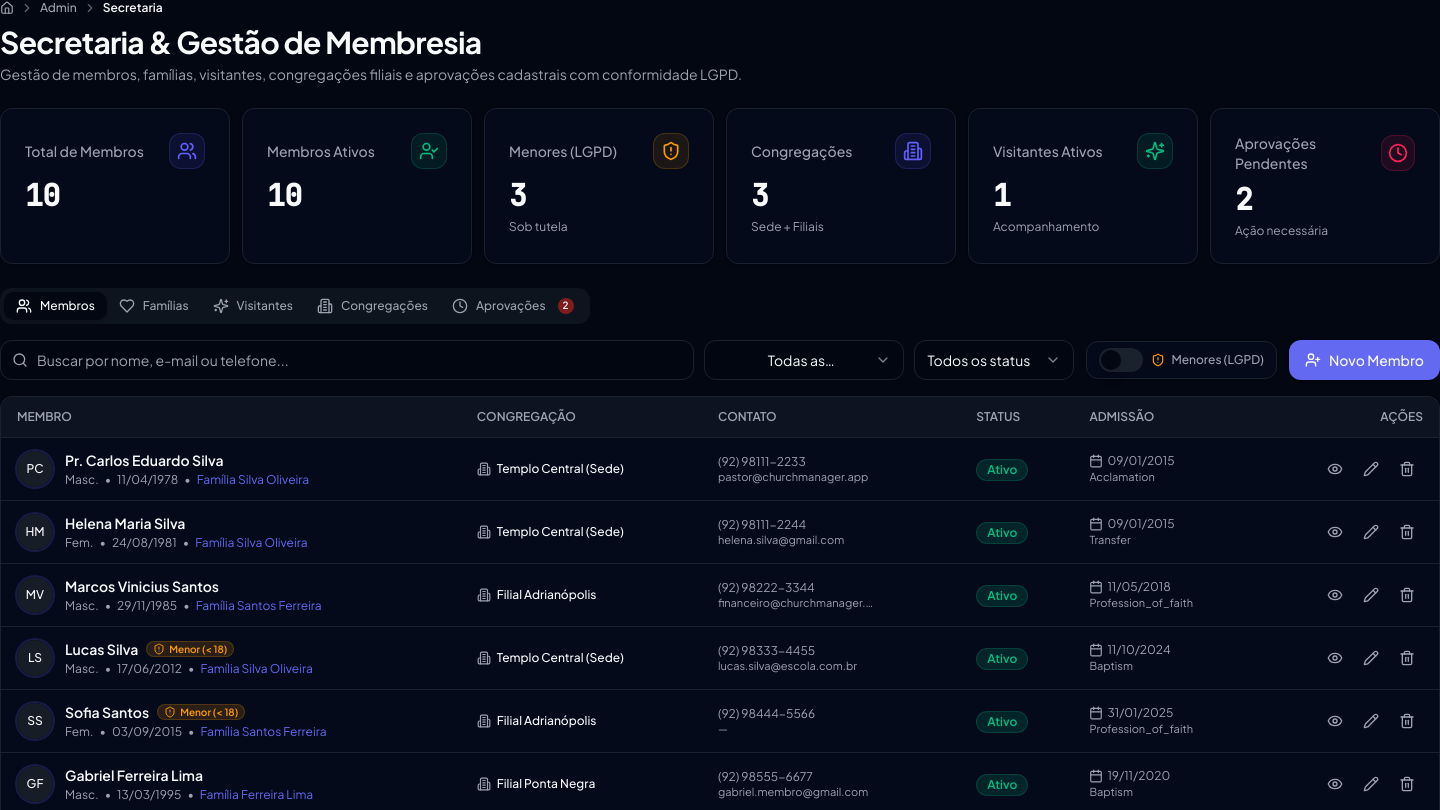
Test: Etapa 04 — Secretaria & Gestão de Membresia › deve filtrar membros ao ativar o filtro de conformidade LGPD para menores de idade
Expected: the text "Pr. Carlos Eduardo Silva" is shown, [65,450,224,470]
// Ativa o toggle "Menores (LGPD)"
Step 1. Click the switch named "Menores (LGPD)" → (1121, 360), box [1099,348,1143,372]
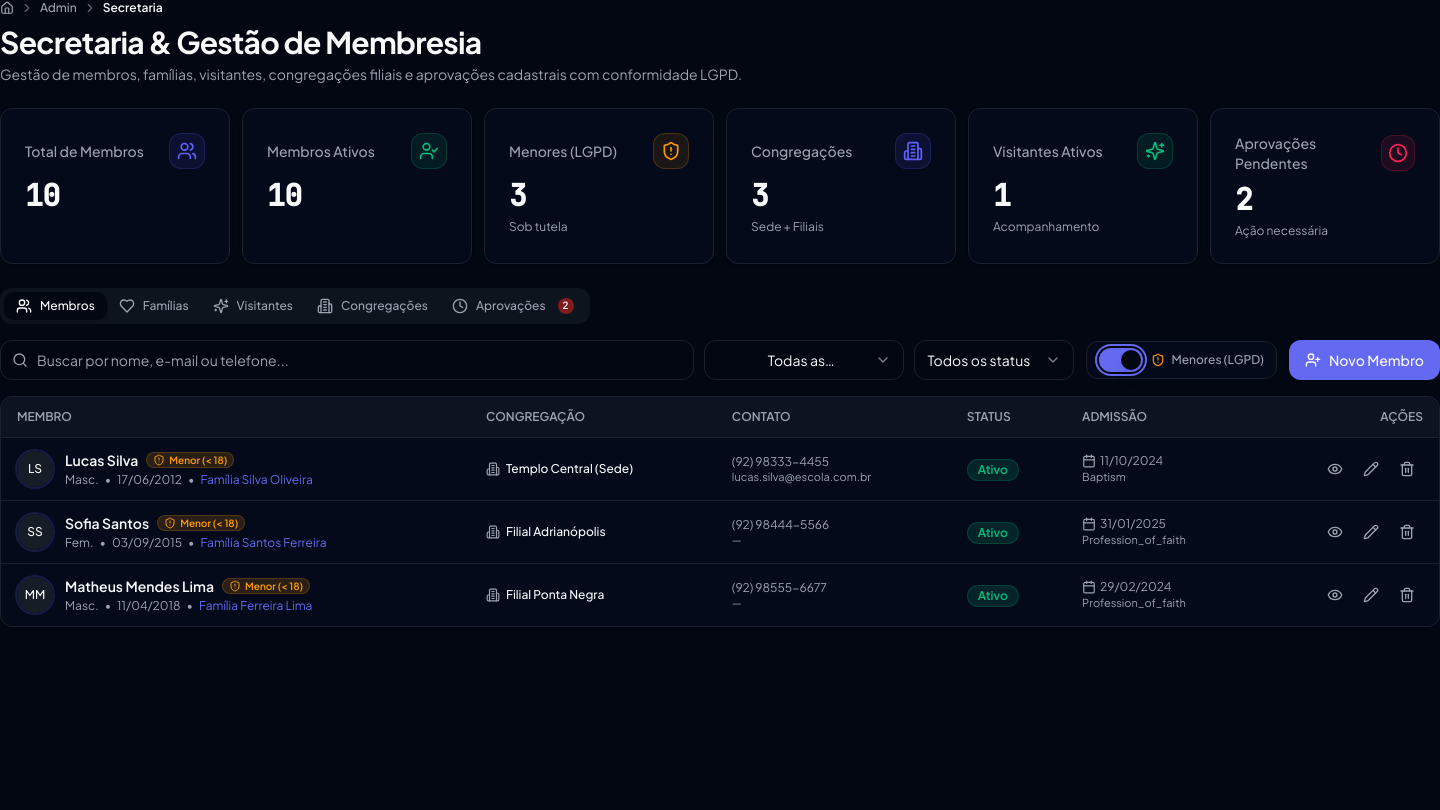
Expected: the text "Lucas Silva" is shown, [65,450,138,470]
Now the text "Pr. Carlos Eduardo Silva" is gone
